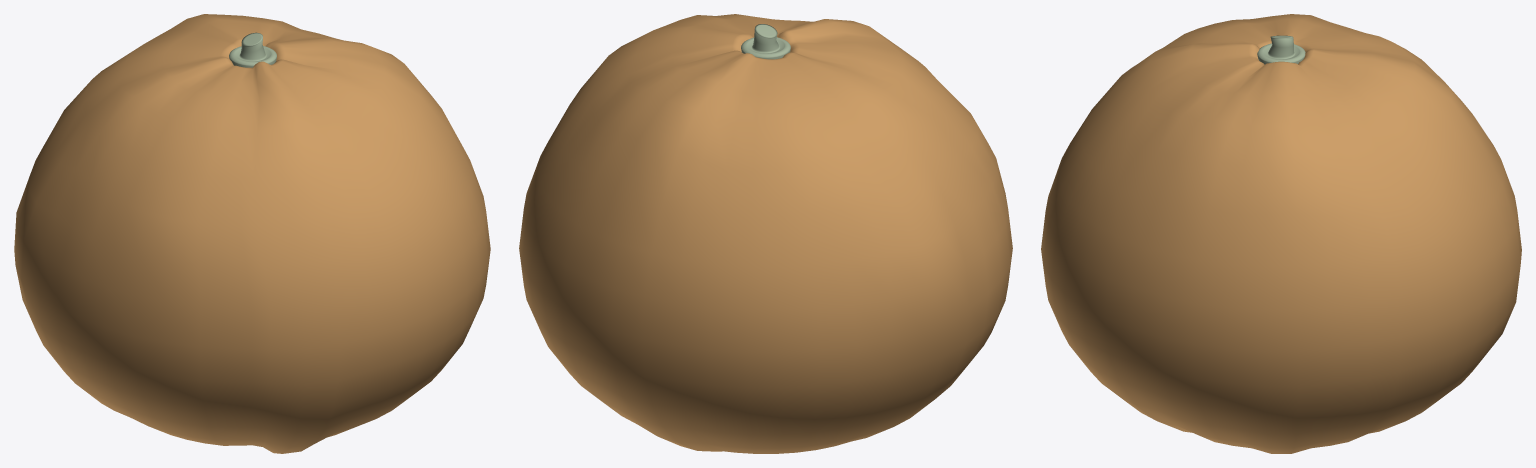
File: mandarine.fbx
3 views of the same model, side by side, from view 1: azimuth 30°, elevation 25°; view 2: azimuth 150°, elevation 25°; view 3: azimuth 270°, elevation 25° (orthographic). The views are drawn at different scales.
Parts seen in each view (by area): view 1: mandarine; view 2: mandarine; view 3: mandarine.
Boxes of the visible parts, left/top/right/bottom form: mandarine: left=14, top=14, right=490, bottom=453; mandarine: left=519, top=14, right=1012, bottom=453; mandarine: left=1041, top=14, right=1521, bottom=453.
Bounding box in the file's own units: 199 × 180 × 200.
